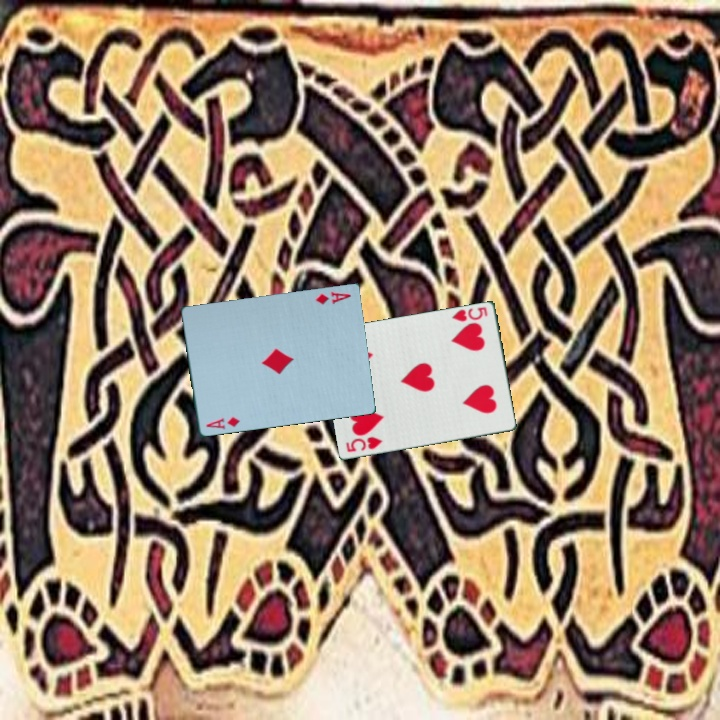5h: (343, 433, 385, 454), (449, 303, 490, 324)
Ad: (312, 288, 354, 308), (202, 413, 243, 433)
